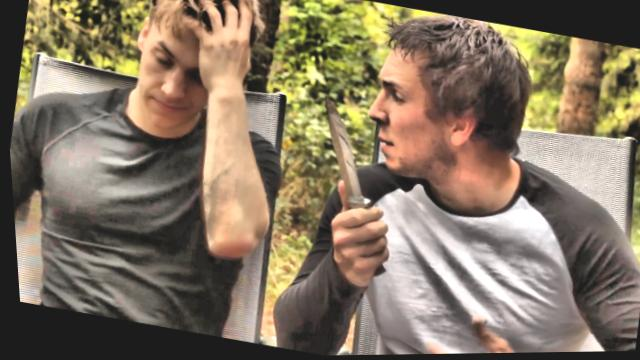knife: (280, 77, 420, 283)
